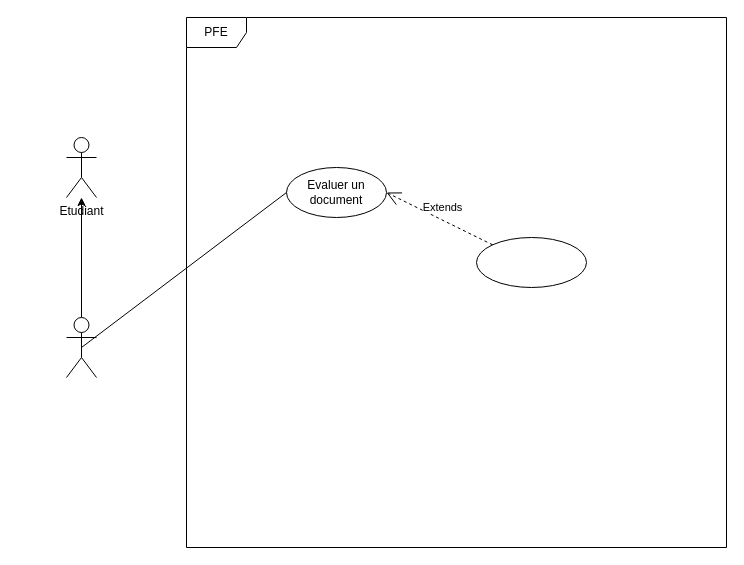
This 744x565 diagram has some shape labels left out. Each missing label, with the centre of its shape:
"Commenter sur la qualité" belongs at [531,262].
"Gestionnaire de Qualit é" belongs at [81,347].
